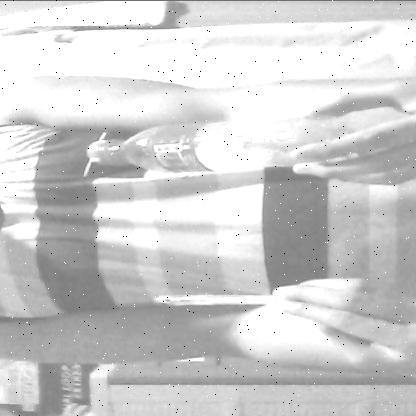Plastic Bottle: (79, 109, 370, 181)
